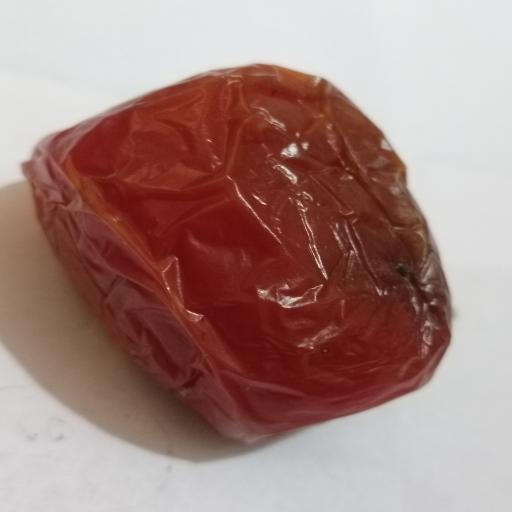spoiled: (25, 65, 450, 440)
